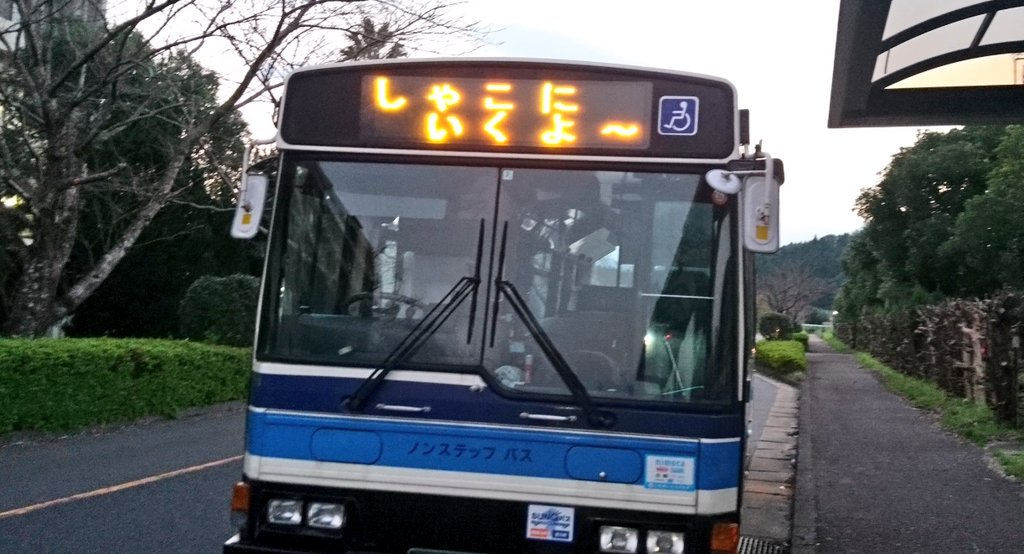destination: (357, 71, 654, 150)
